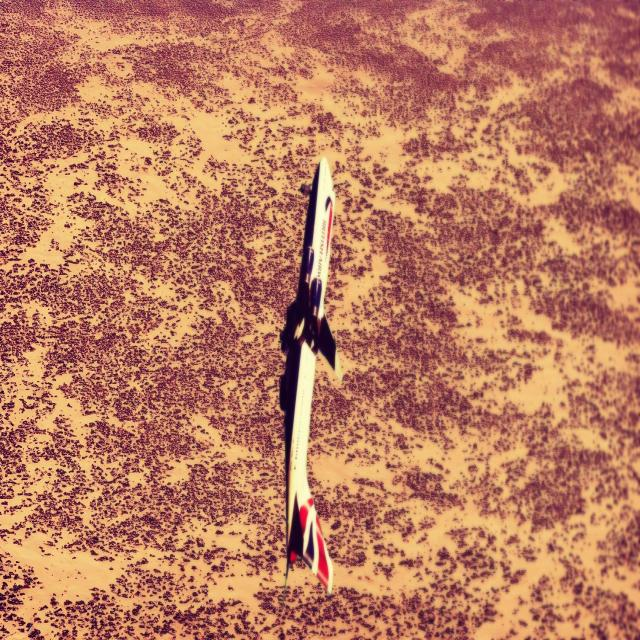airplane: (278, 155, 342, 596)
